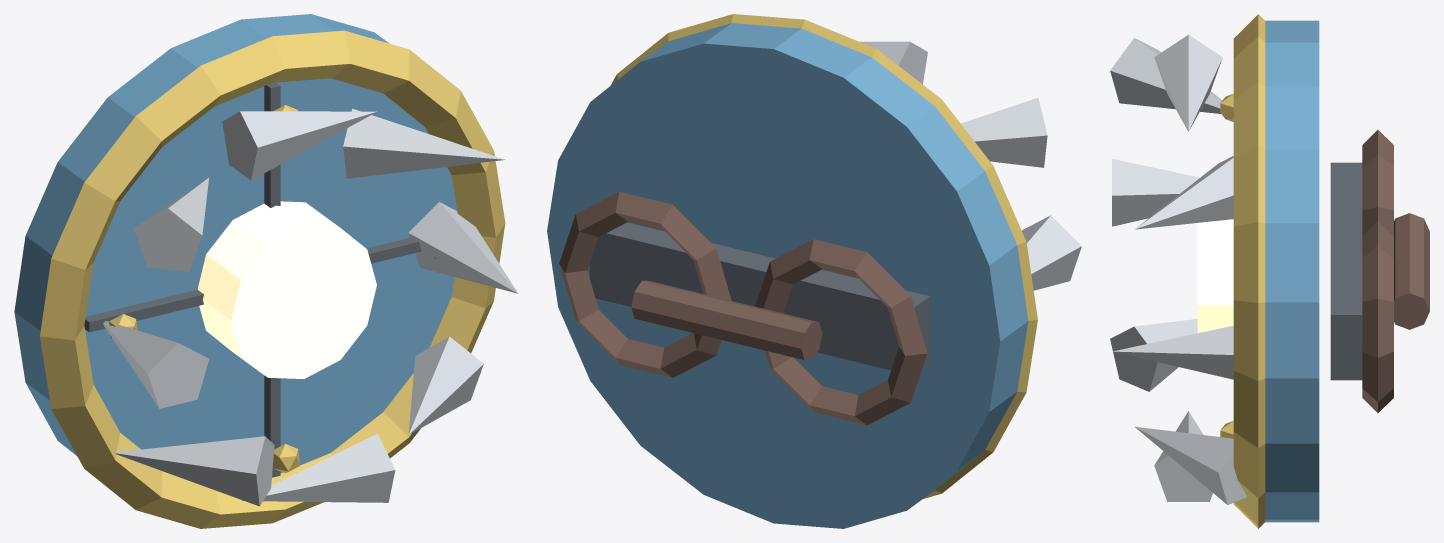
Rendered from colored_spiked_shield.glb.
3 renders of one model, left to right at view 1: azimuth 30°, elevation 25°; view 2: azimuth 150°, elevation 25°; view 3: azimuth 270°, elevation 25°, orthographic. The views are drawn at different scales.
Visible parts, largest first — view 1: ShieldBody.006, IronRim.005, CentralBoss.006, Spike_5.001, Spike_2.001, Spike_1.001, Spike_6.001, Spike_0.001, Spike_4.001, Spike_7.001, Spike_3.001, PlankSeam_1.005 (+2 smaller); view 2: ShieldBody.006, BackReinforcement.006, BackStrap_-0.006, BackStrap_0.006, HandGrip.006, IronRim.005, Spike_3.001, Spike_4.001, Spike_2.001; view 3: ShieldBody.006, IronRim.005, BackReinforcement.006, BackStrap_0.006, CentralBoss.006, HandGrip.006, Spike_7.001, Spike_2.001, Spike_4.001, Spike_1.001, Spike_0.001, Spike_3.001 (+3 smaller).
Boxes of the visible parts, left/top/right/bottom form: ShieldBody.006: left=14, top=14, right=457, bottom=472; IronRim.005: left=40, top=30, right=505, bottom=528; CentralBoss.006: left=197, top=201, right=376, bottom=378; Spike_5.001: left=116, top=436, right=274, bottom=506; Spike_2.001: left=222, top=111, right=376, bottom=180; Spike_1.001: left=343, top=108, right=505, bottom=178; Spike_6.001: left=240, top=433, right=395, bottom=502; Spike_0.001: left=408, top=202, right=518, bottom=293; Spike_4.001: left=103, top=321, right=209, bottom=408; Spike_7.001: left=408, top=336, right=483, bottom=434; Spike_3.001: left=134, top=178, right=208, bottom=271; PlankSeam_1.005: left=84, top=238, right=421, bottom=332; ShieldBody.006: left=547, top=23, right=1028, bottom=528; BackReinforcement.006: left=589, top=222, right=929, bottom=370; BackStrap_-0.006: left=755, top=239, right=927, bottom=425; BackStrap_0.006: left=559, top=191, right=731, bottom=377; HandGrip.006: left=631, top=280, right=822, bottom=360; IronRim.005: left=610, top=14, right=1037, bottom=498; Spike_3.001: left=961, top=98, right=1047, bottom=167; Spike_4.001: left=1021, top=215, right=1081, bottom=290; Spike_2.001: left=859, top=41, right=927, bottom=84; ShieldBody.006: left=1265, top=20, right=1319, bottom=522; IronRim.005: left=1233, top=14, right=1265, bottom=528; BackReinforcement.006: left=1330, top=162, right=1362, bottom=380; BackStrap_0.006: left=1362, top=221, right=1393, bottom=412; CentralBoss.006: left=1197, top=219, right=1233, bottom=332; HandGrip.006: left=1394, top=213, right=1429, bottom=329; Spike_7.001: left=1135, top=426, right=1246, bottom=504; Spike_2.001: left=1154, top=34, right=1222, bottom=131; Spike_4.001: left=1112, top=159, right=1199, bottom=226; Spike_1.001: left=1134, top=156, right=1233, bottom=229; Spike_0.001: left=1112, top=325, right=1233, bottom=379; Spike_3.001: left=1110, top=38, right=1222, bottom=113.
Size of the model in its own units: 1.15 by 1.15 by 0.709.
